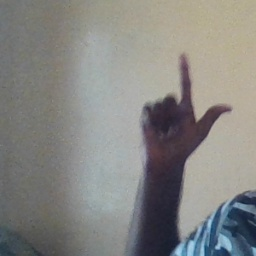L: (133, 54, 235, 162)
